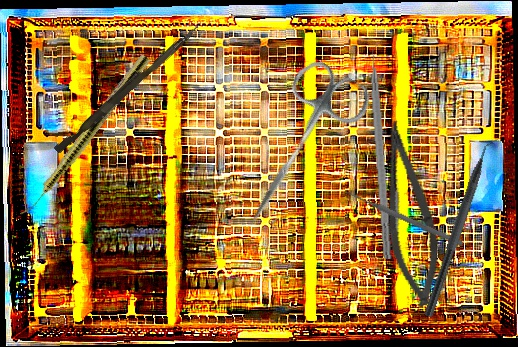Chopper: (423, 129, 506, 322), (367, 35, 404, 260)
Handpiece: (17, 51, 152, 224)
Iris Scissors: (221, 53, 377, 243)
Micro Scissor: (364, 117, 452, 310)
Pusher: (53, 19, 201, 158), (344, 188, 465, 248)
